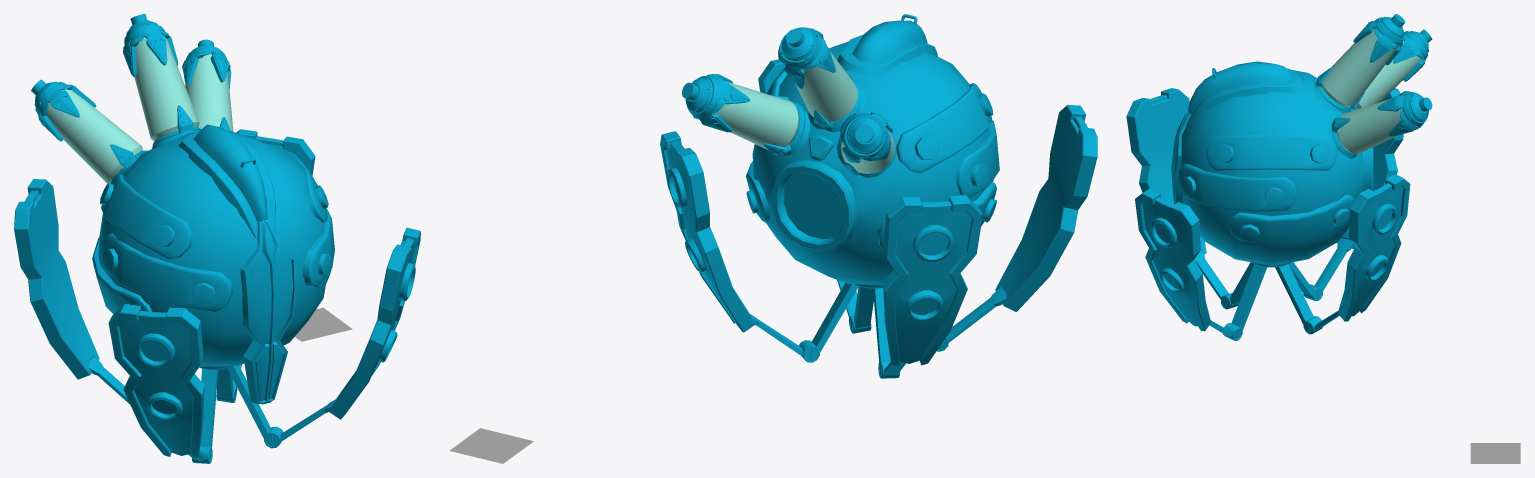
The model's file is A_Boss_AnimTest.fbx.
The picture shows the model from 3 angles, left to right: view 1: azimuth 30°, elevation 25°; view 2: azimuth 150°, elevation 25°; view 3: azimuth 270°, elevation 25°; orthographic projection. The views are drawn at different scales.
Visible parts, largest first — view 1: SM_Boss1, pPlane1; view 2: SM_Boss1, pPlane1; view 3: SM_Boss1, pPlane1.
Boxes of the visible parts, bbox=[...] form: SM_Boss1: bbox=[14, 14, 420, 463]; pPlane1: bbox=[295, 307, 352, 341]; SM_Boss1: bbox=[660, 14, 1097, 378]; pPlane1: bbox=[449, 428, 533, 463]; SM_Boss1: bbox=[1126, 14, 1432, 340]; pPlane1: bbox=[1470, 443, 1520, 463].
Size of the model in its own units: 1208 by 1137 by 1181.
